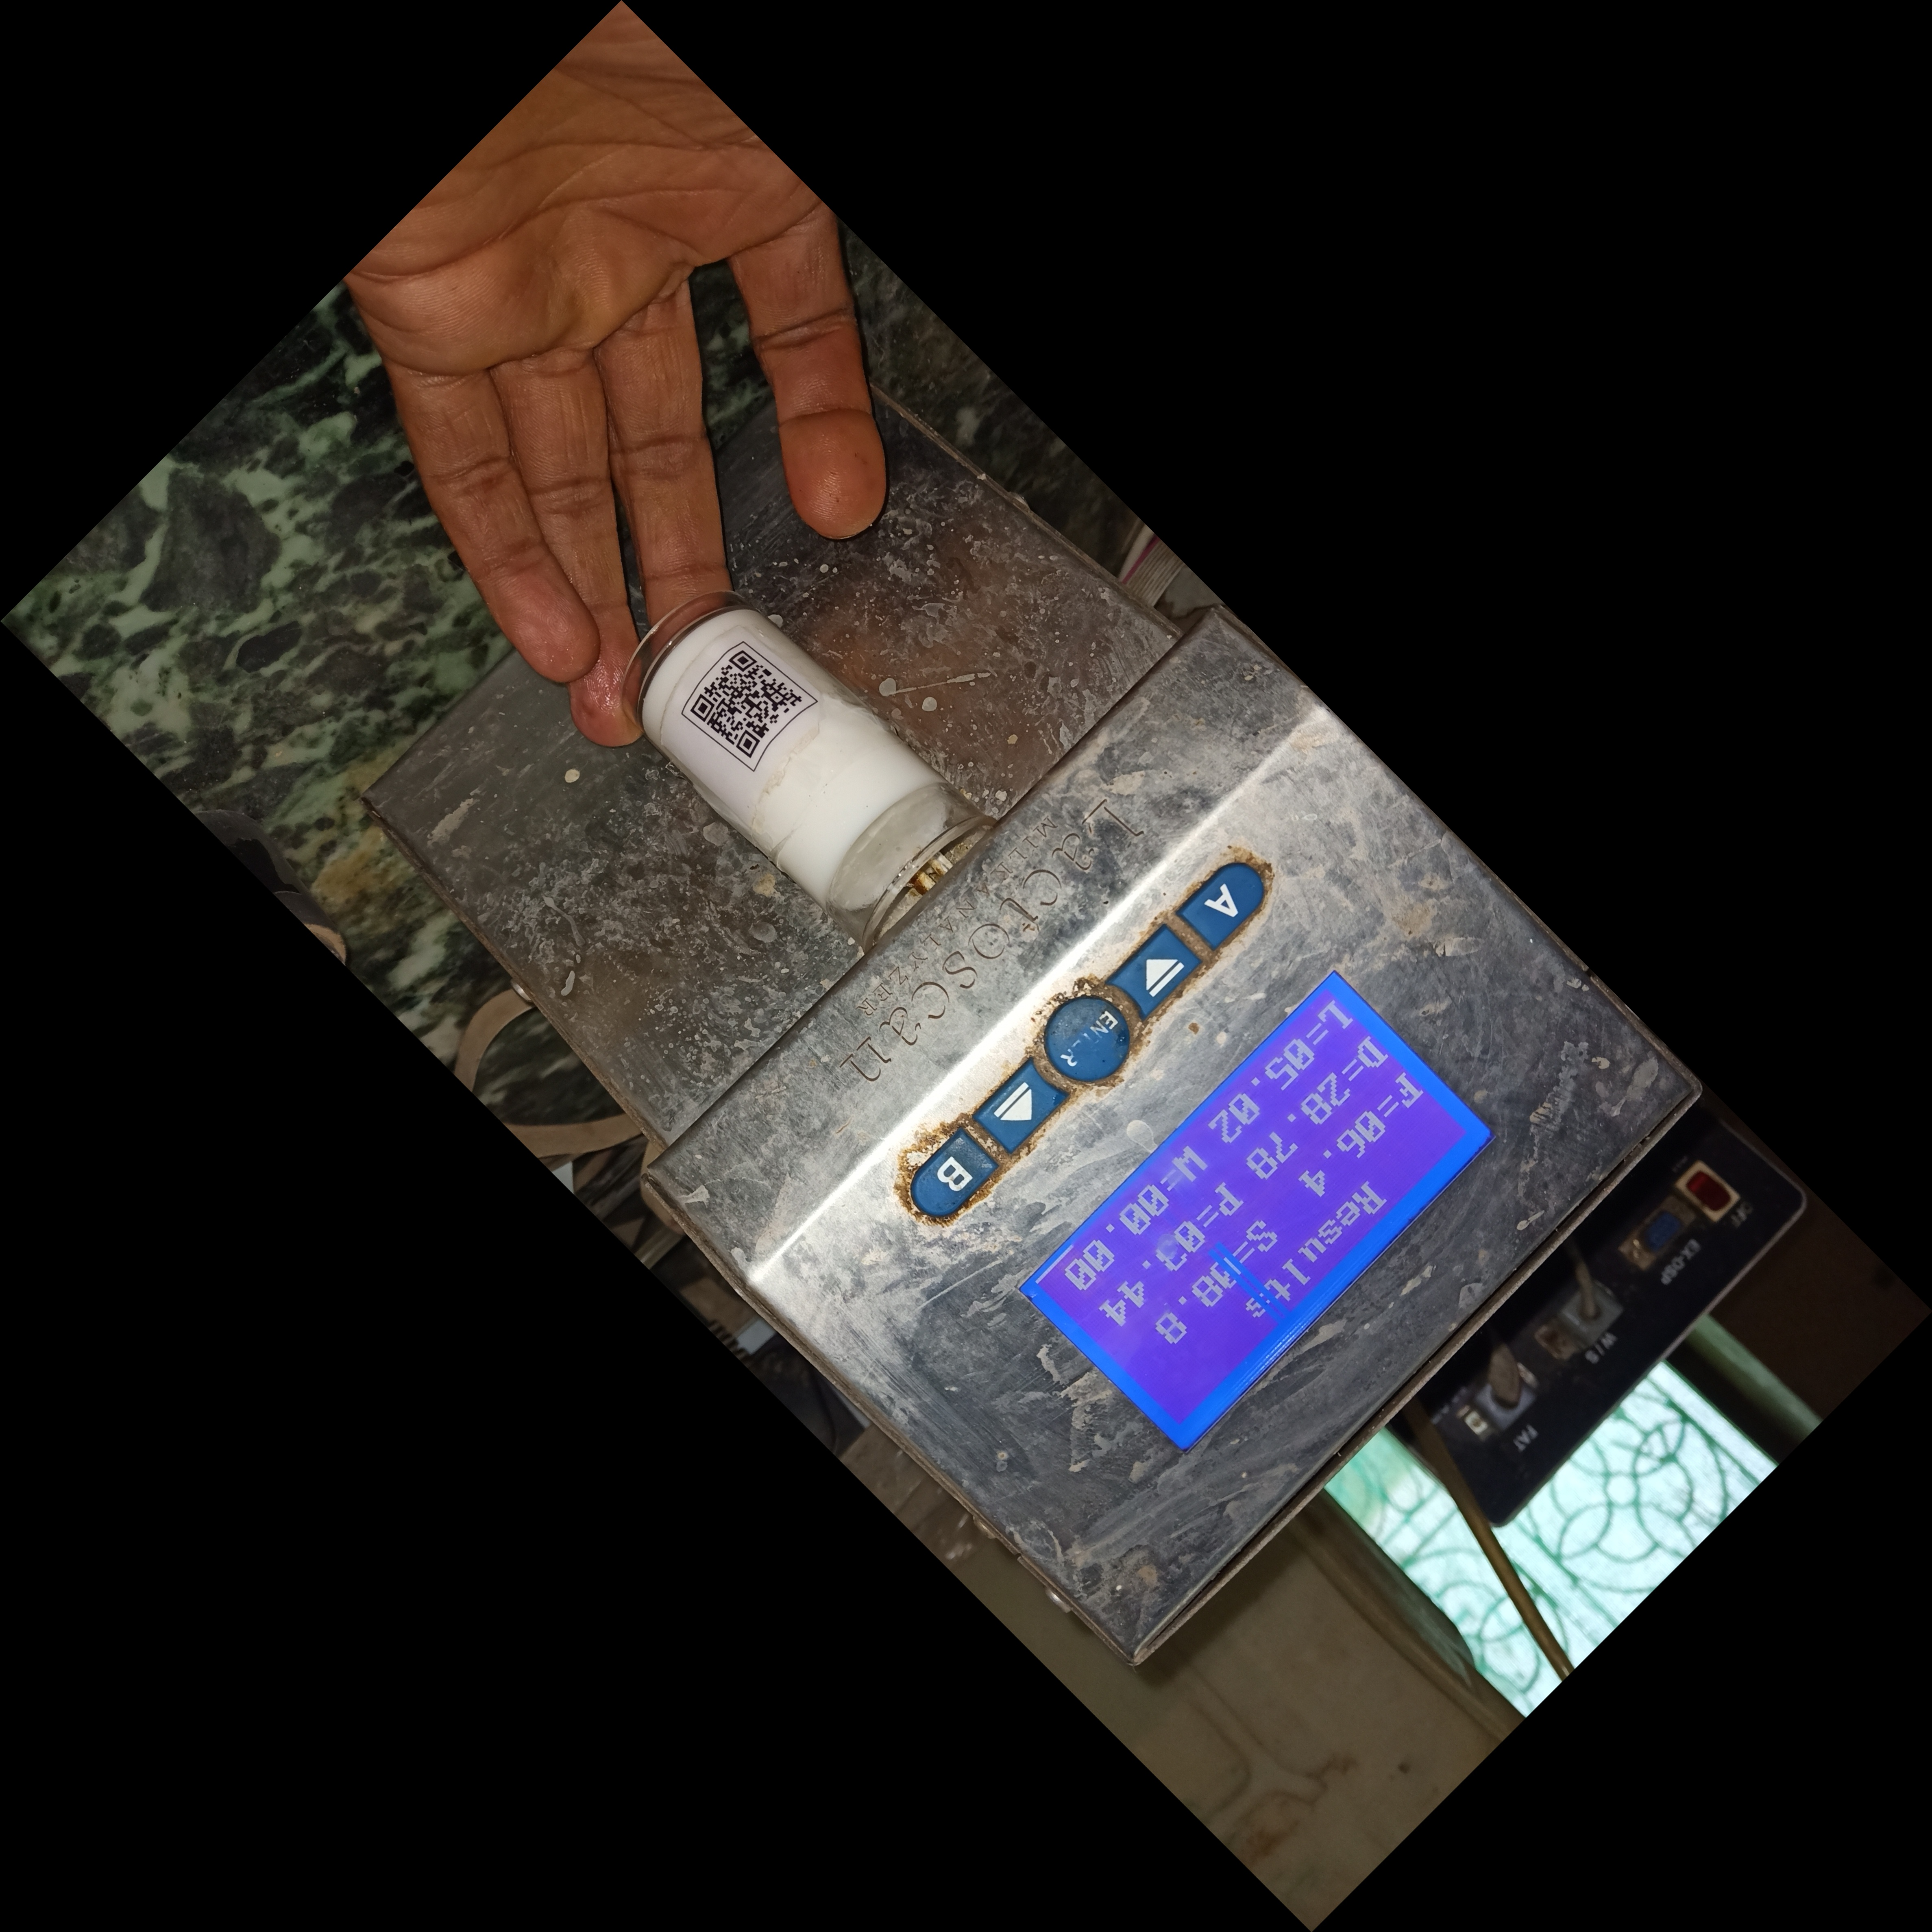lcd: (993, 943, 1511, 1458)
qr: (688, 637, 823, 782)
